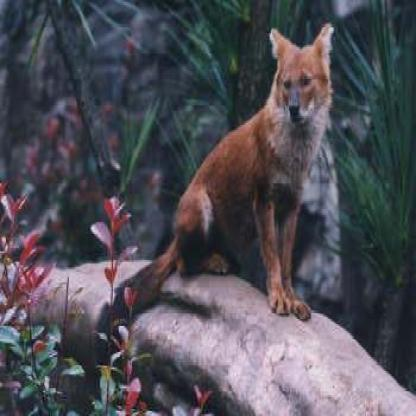dhole: (89, 18, 340, 344)
